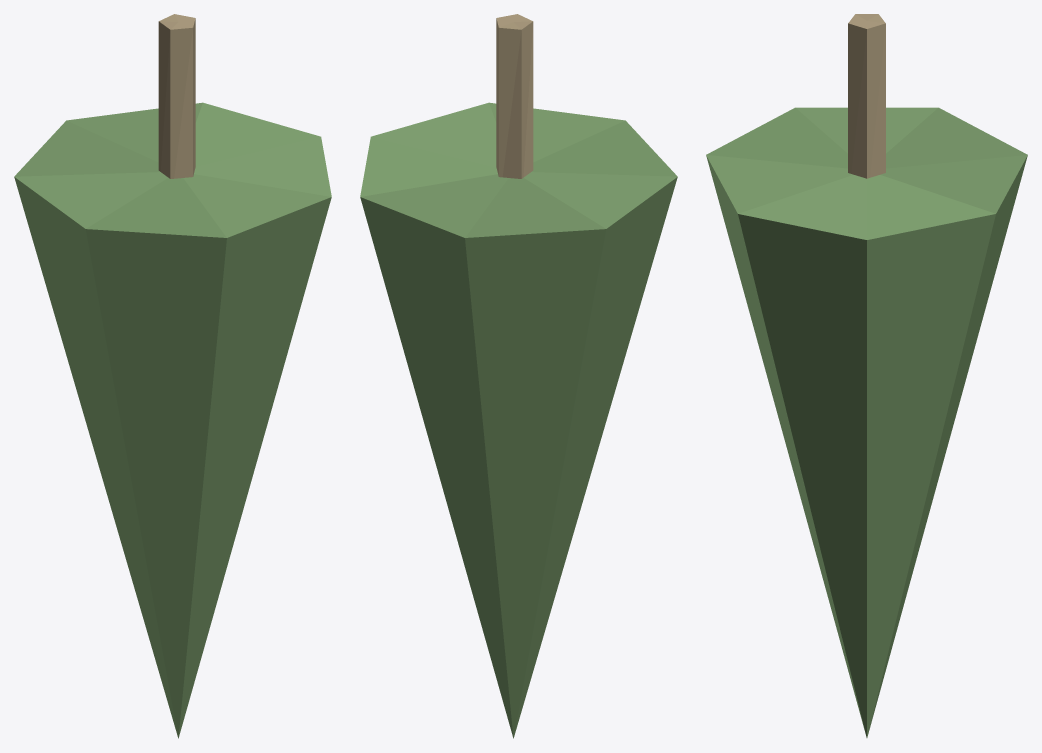
File: herb_bundle.glb
3 renders of one model, left to right at view 1: azimuth 30°, elevation 25°; view 2: azimuth 150°, elevation 25°; view 3: azimuth 270°, elevation 25°, orthographic.
Visible parts, largest first — view 1: herb_bundle; view 2: herb_bundle; view 3: herb_bundle.
Part boxes in pixels (x1,y1,x2,y2): herb_bundle: (14,14,331,738); herb_bundle: (360,14,677,738); herb_bundle: (706,14,1027,737).
Size of the model in its own units: 0.1901 by 0.48 by 0.195.
